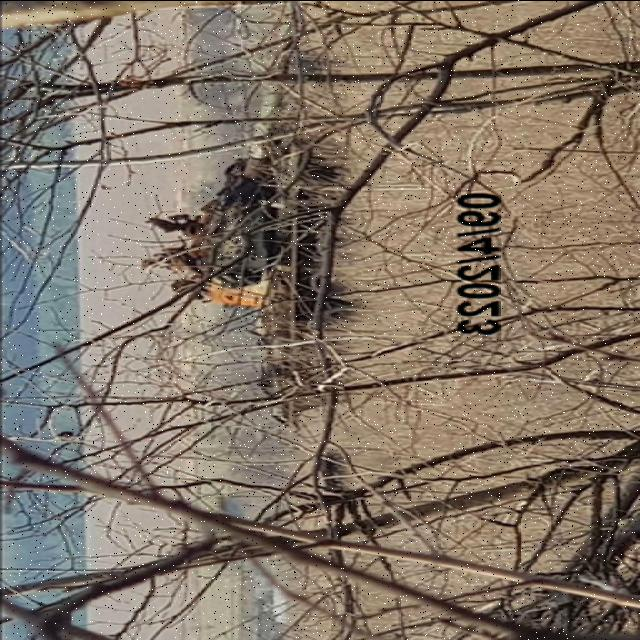TANK: (146, 0, 362, 422)
